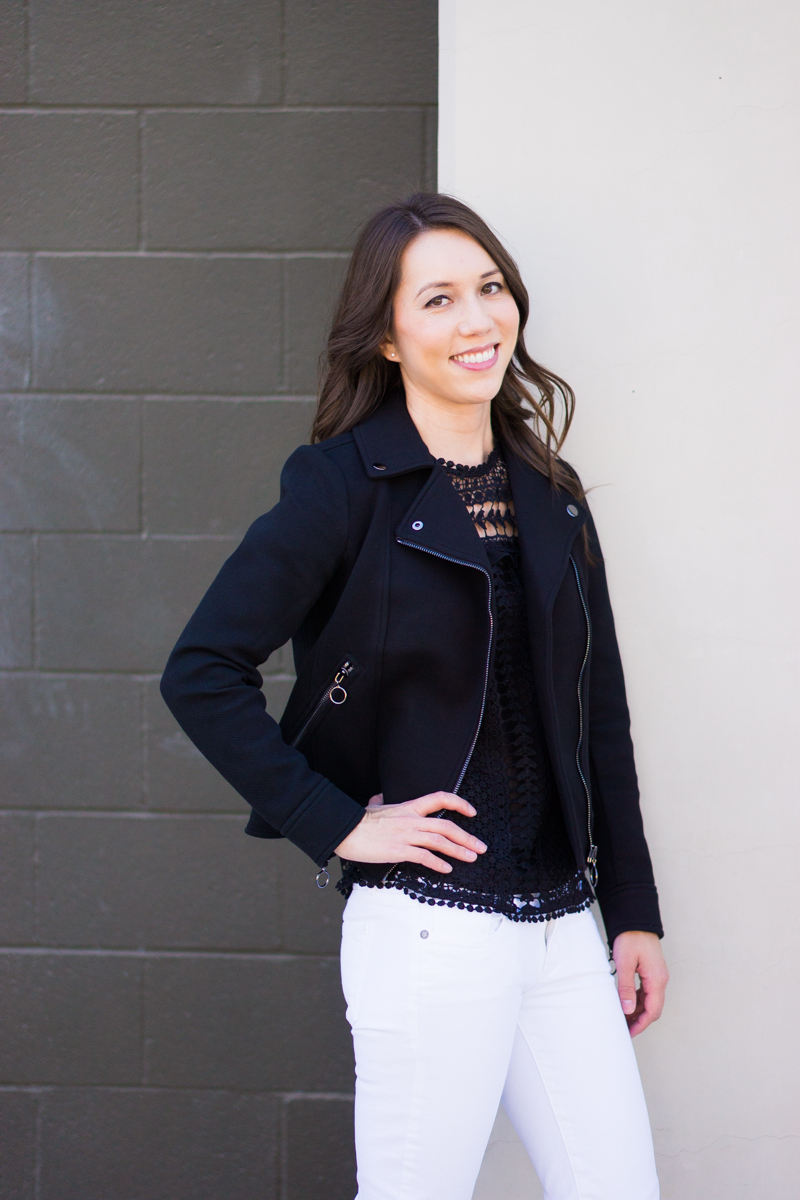F_W_suit jacket: (162, 415, 690, 968)
